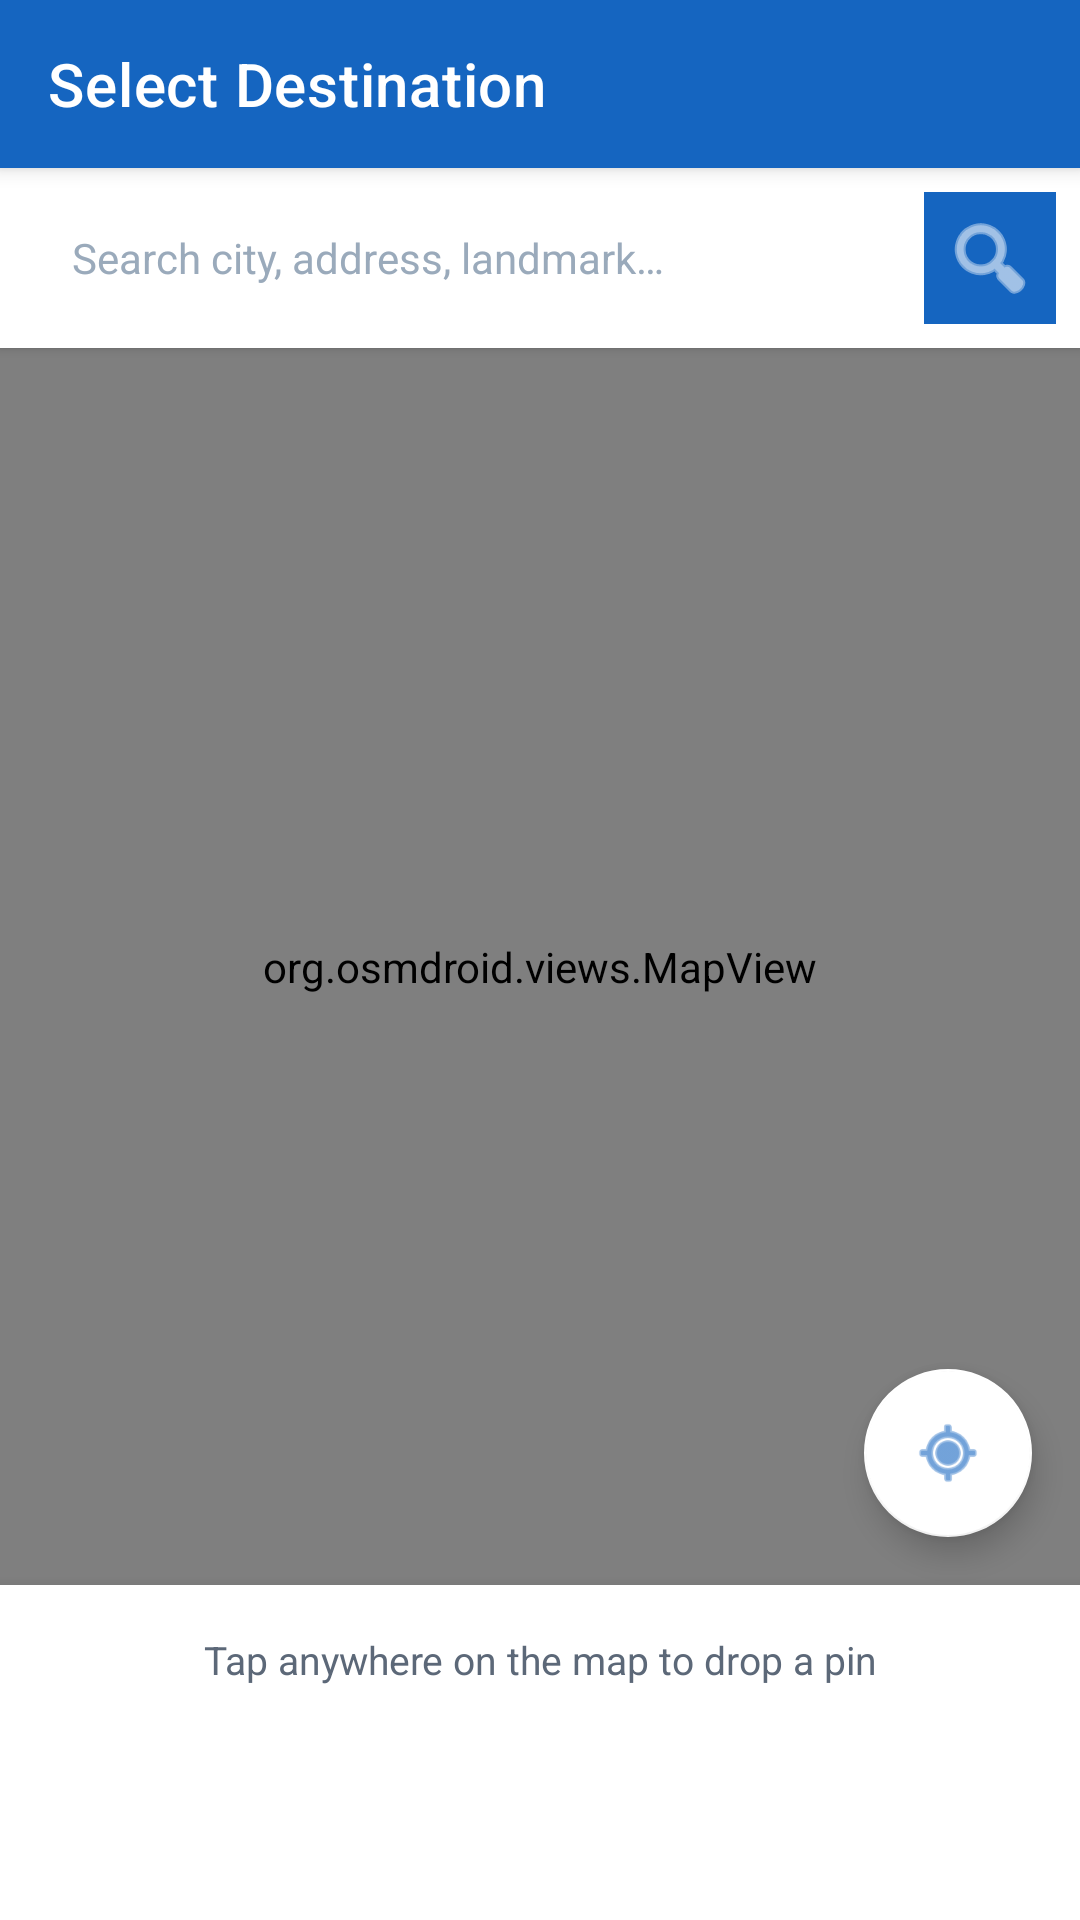

Point at icon controls on the screen. Image size 1080*1920, points as (x=x, y=y).
My Location: (x=948, y=1453)
